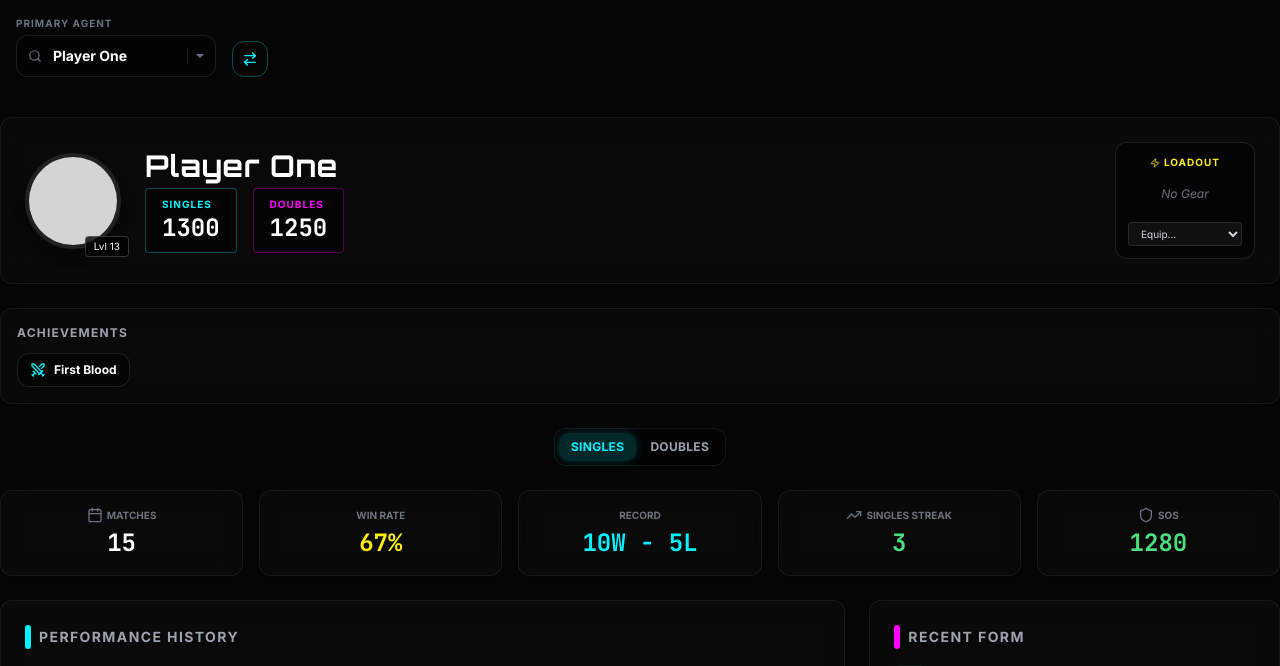
Scenario: StatsDashboard Component › Unit Tests: Edge Cases › handles players with no head-to-head matches for selected game type
// Enter comparison mode
Click the button titled "Compare Players" at (250, 59), box [232,41,268,77]
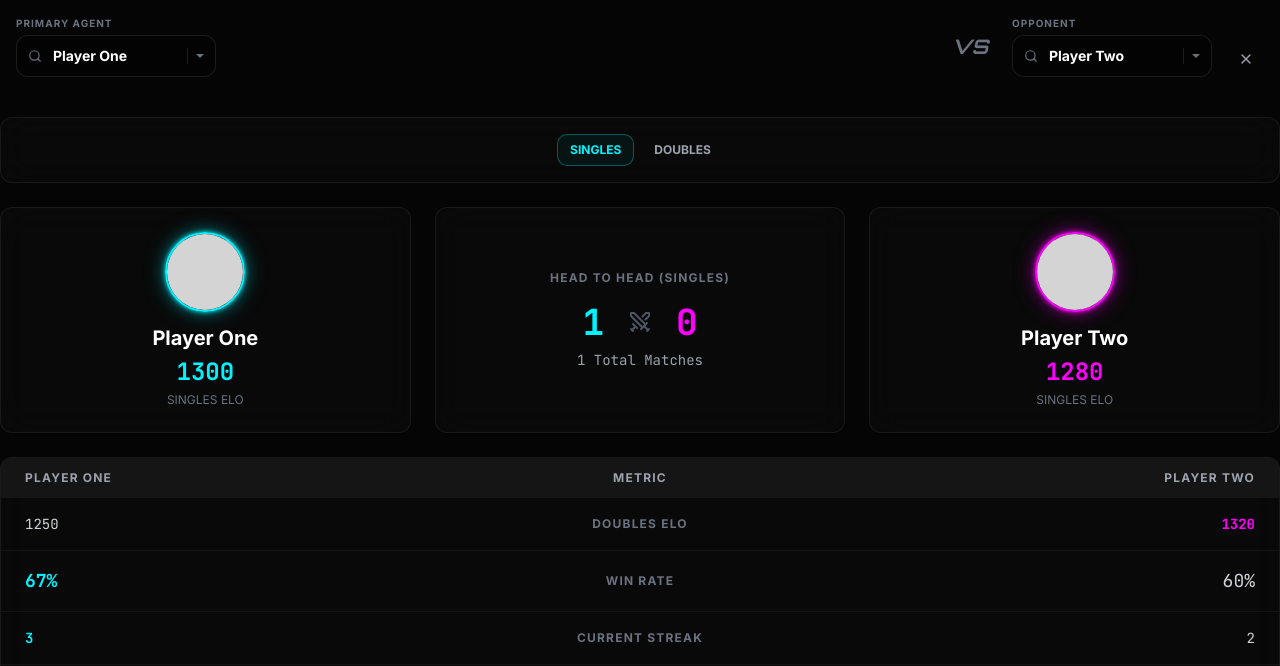
Click the button "DOUBLES" at (683, 150), box [642,134,723,166]
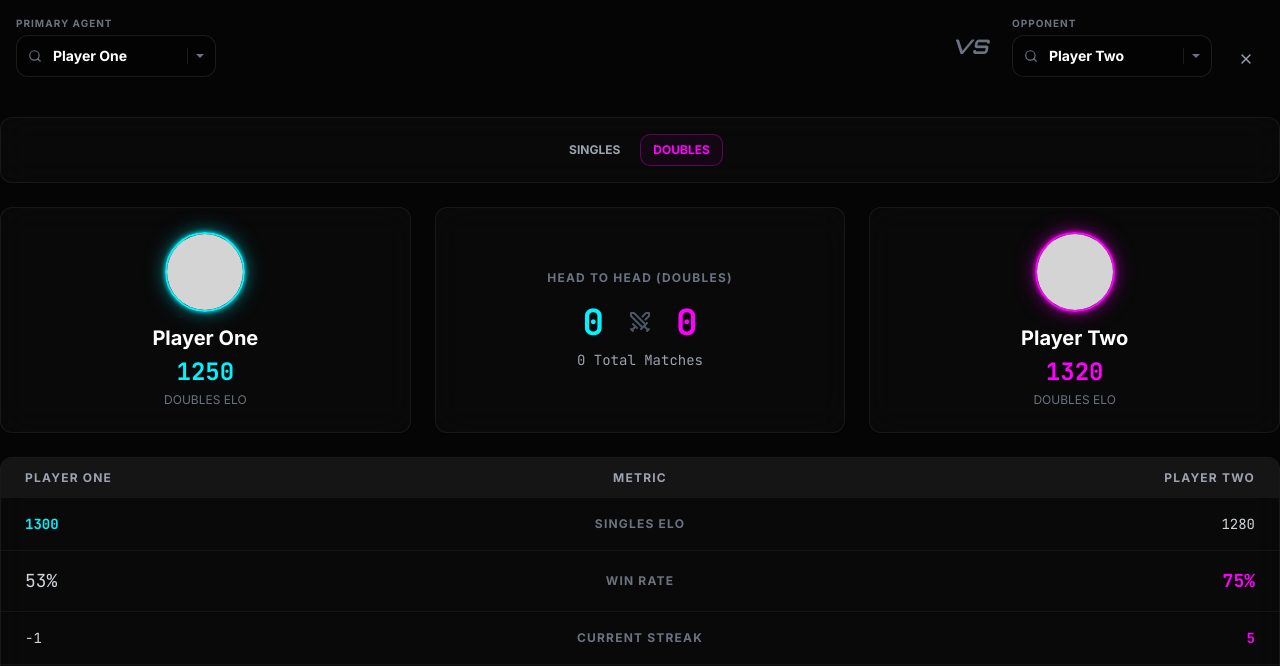
expect the text "Player One" is shown: met, box [152,324,258,352]
expect the text "Player Two" is shown: met, box [1021,324,1128,352]
expect the text "0 Total Matches" is shown: met, box [577,350,703,370]
